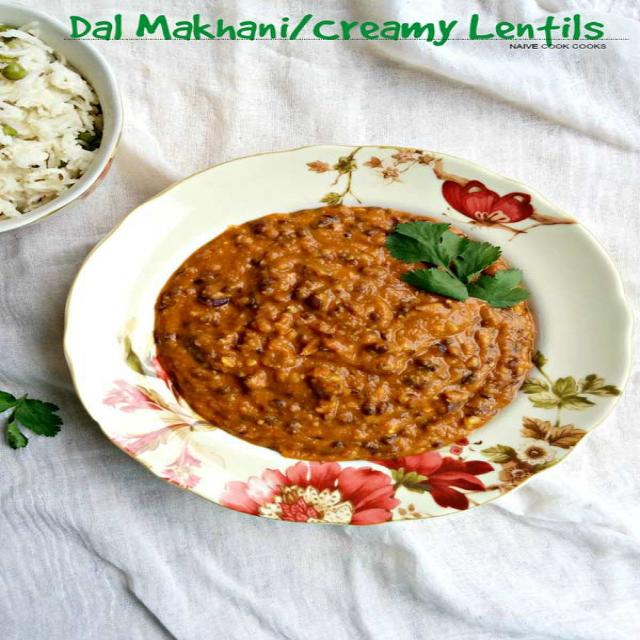dal_makhani: (142, 211, 598, 470)
